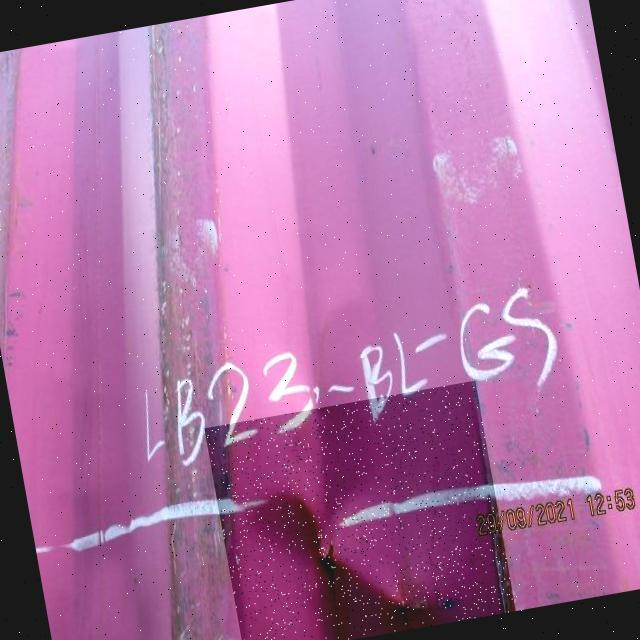dent: (205, 381, 516, 640)
